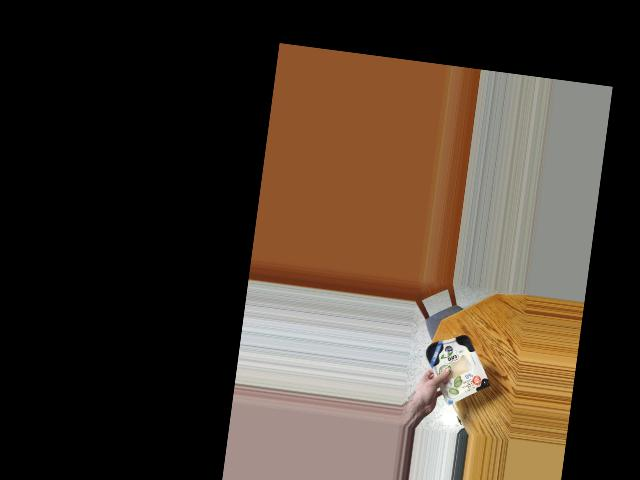cheese: (420, 325, 490, 399)
